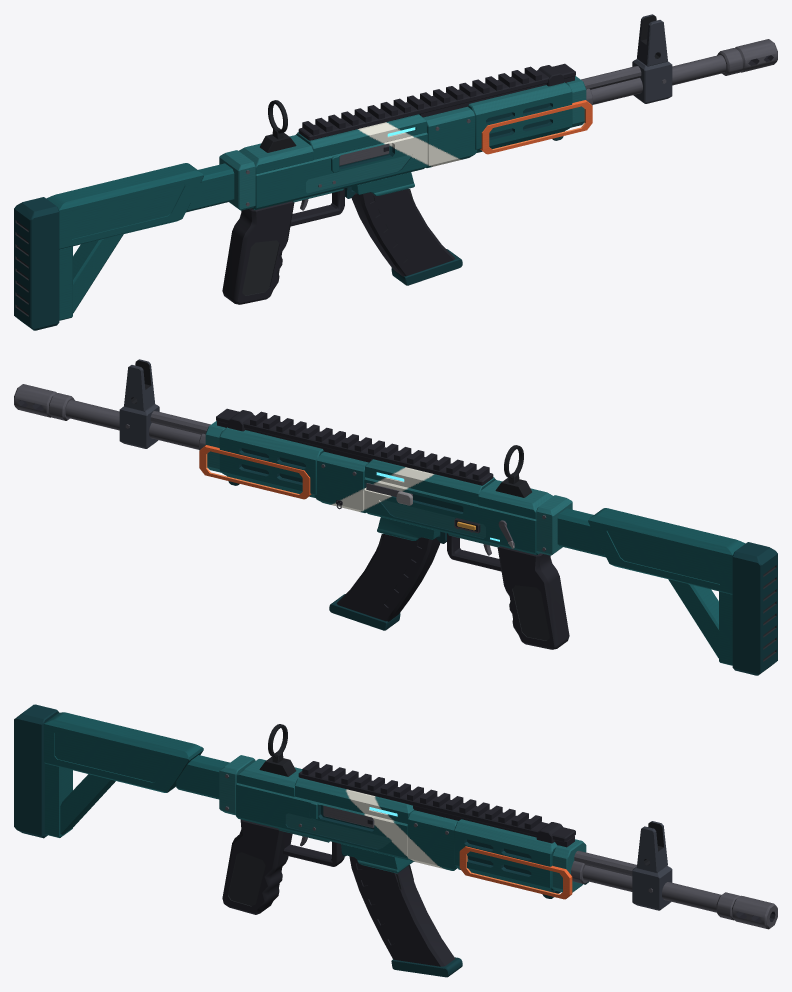
The model's file is Vandal_Breakwater_v01.fbx.
The picture shows the model from 3 angles, top to bottom: view 1: azimuth 30°, elevation 25°; view 2: azimuth 150°, elevation 25°; view 3: azimuth 330°, elevation 25°; orthographic projection.
Parts seen in each view (by area): view 1: Vandal_Stock, Vandal_Receiver, Vandal_Grip, Vandal_Mag, Vandal_Rail, Vandal_Handguard, Vandal_Barrel, Vandal_FrontSight, Breakwater_ForeBumper_R, Vandal_RearSight, Vandal_Bolt; view 2: Vandal_Stock, Vandal_Receiver, Vandal_Grip, Vandal_Mag, Vandal_Rail, Vandal_Handguard, Vandal_Barrel, Vandal_FrontSight, Breakwater_ForeBumper_L, Vandal_RearSight; view 3: Vandal_Stock, Vandal_Receiver, Vandal_Mag, Vandal_Handguard, Vandal_Rail, Vandal_Grip, Vandal_Barrel, Vandal_FrontSight, Breakwater_ForeBumper_R, Vandal_RearSight, Vandal_Bolt.
Boxes of the visible parts, box(x1,y1,x2,y2) form: Vandal_Stock: box(14, 163, 234, 330); Vandal_Receiver: box(219, 106, 477, 210); Vandal_Grip: box(222, 188, 344, 304); Vandal_Mag: box(351, 189, 462, 285); Vandal_Rail: box(298, 63, 575, 140); Vandal_Handguard: box(468, 76, 592, 152); Vandal_Barrel: box(581, 39, 777, 104); Vandal_FrontSight: box(632, 14, 672, 103); Breakwater_ForeBumper_R: box(480, 100, 592, 154); Vandal_RearSight: box(260, 100, 296, 152); Vandal_Bolt: box(339, 143, 389, 165); Vandal_Stock: box(557, 508, 777, 675); Vandal_Receiver: box(314, 451, 572, 555); Vandal_Grip: box(447, 533, 569, 649); Vandal_Mag: box(329, 534, 440, 630); Vandal_Rail: box(216, 408, 493, 485); Vandal_Handguard: box(199, 421, 323, 497); Vandal_Barrel: box(14, 384, 210, 449); Vandal_FrontSight: box(119, 359, 159, 448); Breakwater_ForeBumper_L: box(199, 445, 311, 499); Vandal_RearSight: box(495, 445, 531, 497); Vandal_Stock: box(14, 704, 229, 838); Vandal_Receiver: box(219, 755, 458, 873); Vandal_Mag: box(349, 856, 462, 977); Vandal_Handguard: box(454, 819, 587, 898); Vandal_Rail: box(298, 761, 575, 847); Vandal_Grip: box(222, 819, 344, 914); Vandal_Barrel: box(574, 850, 777, 929); Vandal_FrontSight: box(632, 821, 672, 910); Breakwater_ForeBumper_R: box(459, 846, 572, 899); Vandal_RearSight: box(259, 724, 296, 776); Vandal_Bolt: box(323, 805, 374, 827).
Size of the model in its own units: 390 by 104 by 23.2.
15 materials, 11 textured.
